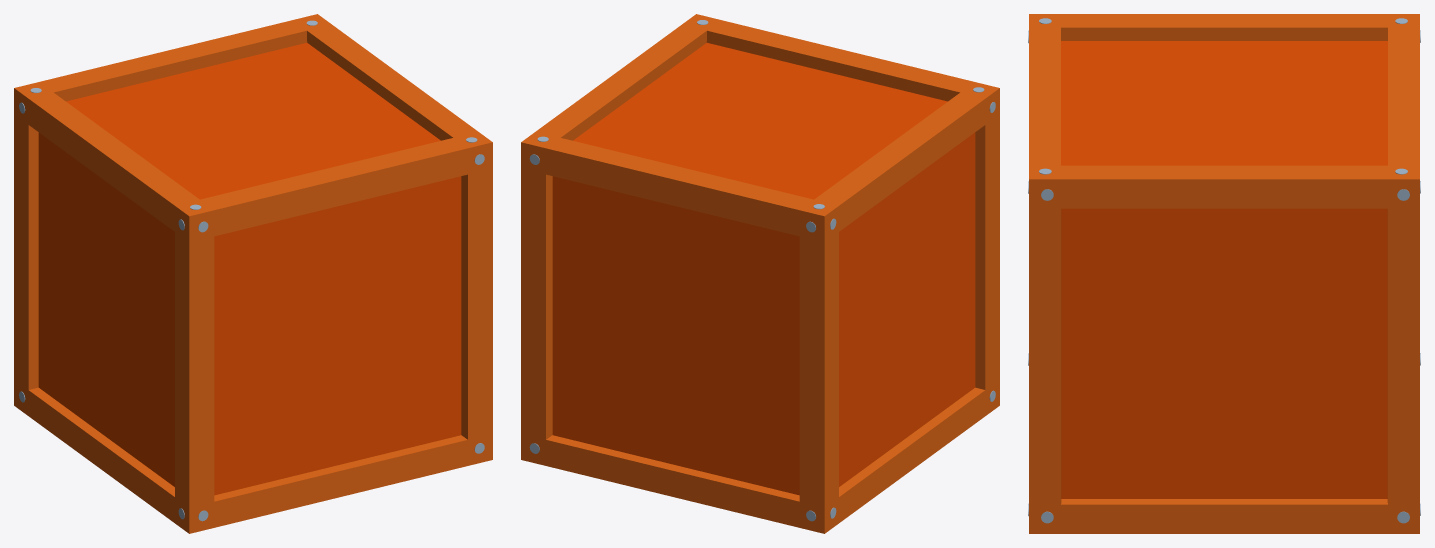
The model's file is drveni obod kutija final.fbx.
3 views of the same model, side by side, from view 1: azimuth 30°, elevation 25°; view 2: azimuth 150°, elevation 25°; view 3: azimuth 270°, elevation 25° (orthographic). The views are drawn at different scales.
Parts seen in each view (by area): view 1: Cube.231; view 2: Cube.231; view 3: Cube.231.
Part boxes in pixels (bbox=[...]): Cube.231: bbox=[14, 14, 492, 533]; Cube.231: bbox=[521, 14, 999, 533]; Cube.231: bbox=[1028, 14, 1420, 533].
Bounding box in the file's own units: 201 × 200 × 201.
